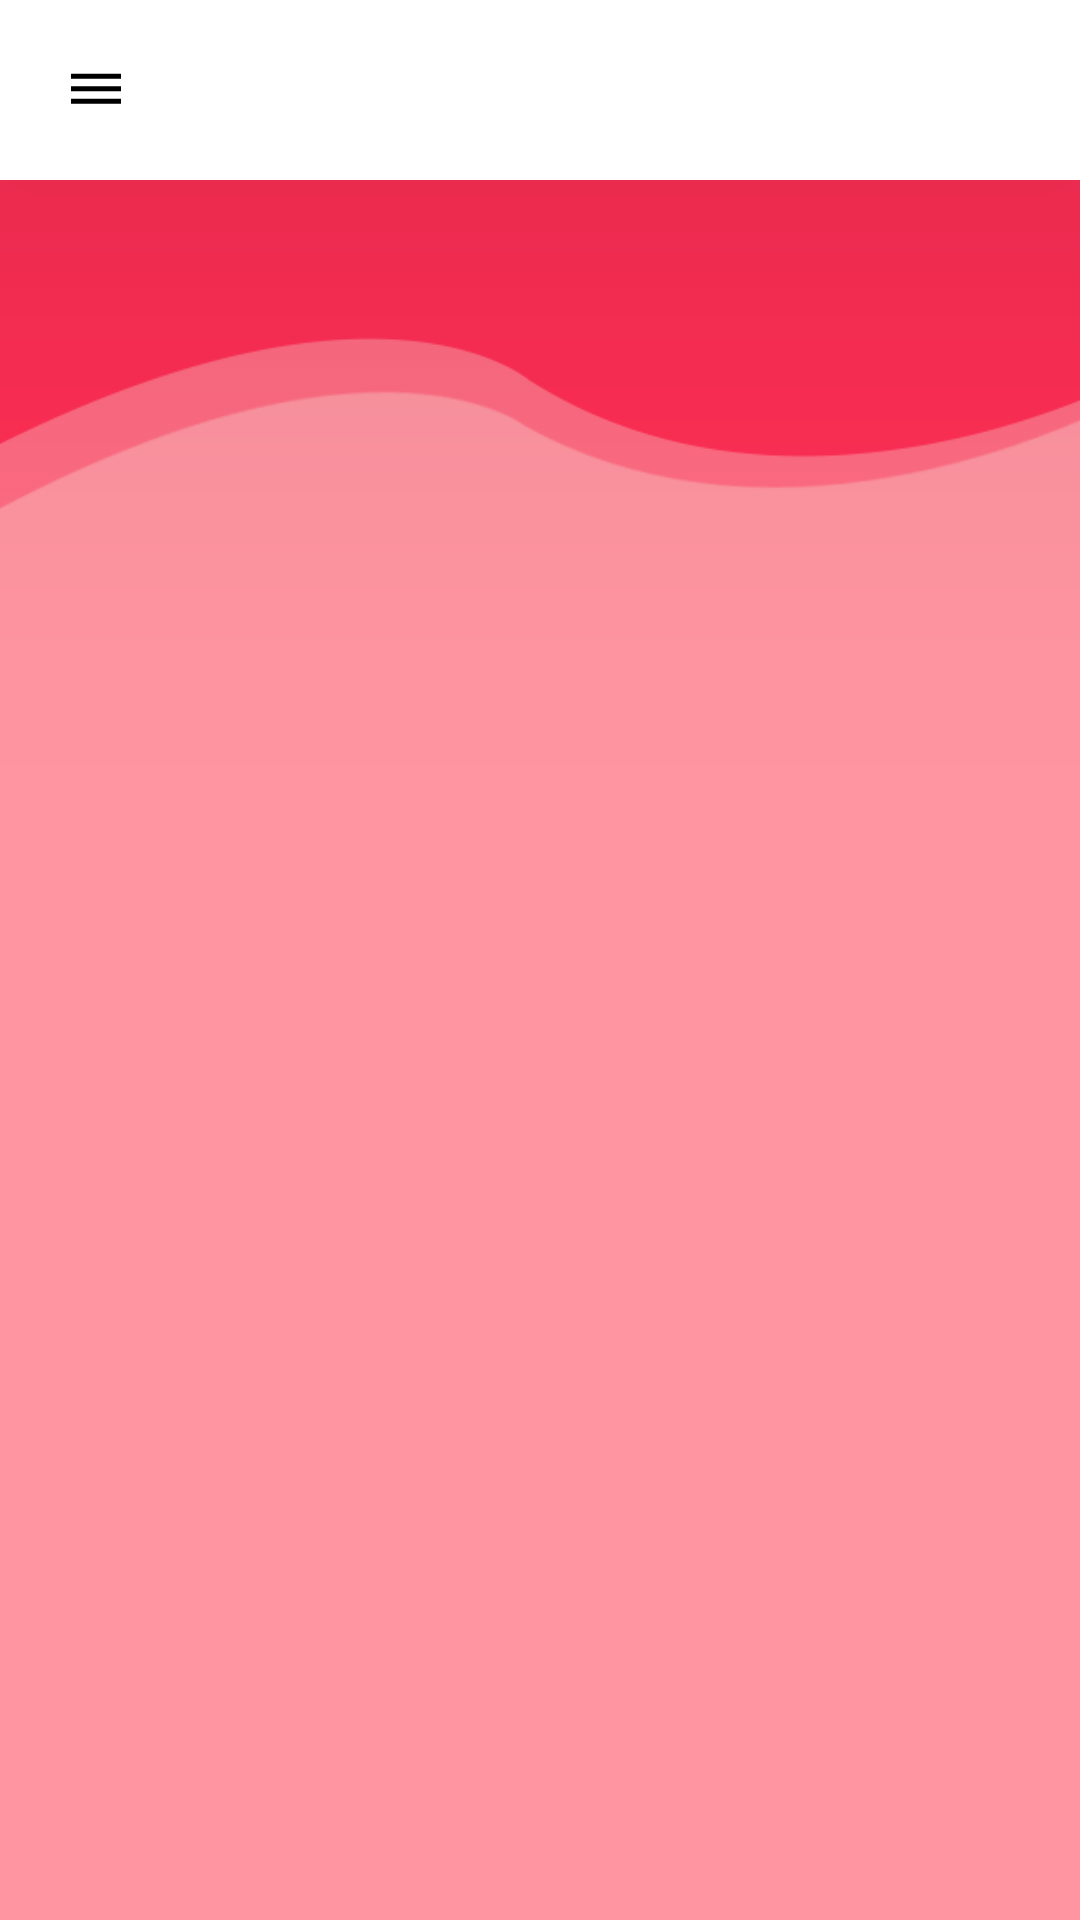

Where to tap for icons on this 1080w x 1920h app screen, as [x,y]:
dehaze: [96,88]
